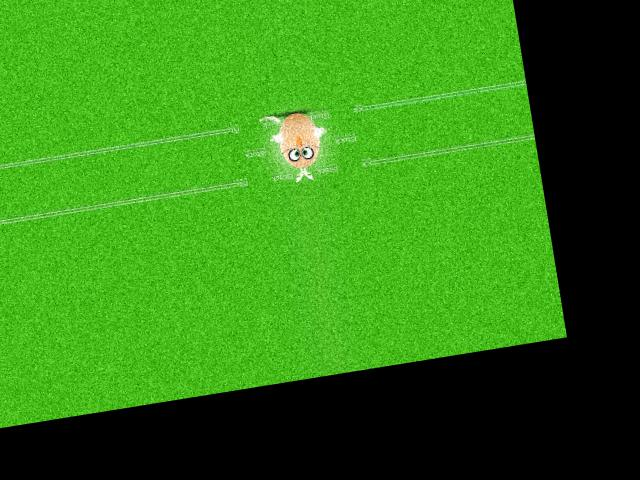egg: (274, 109, 322, 170)
